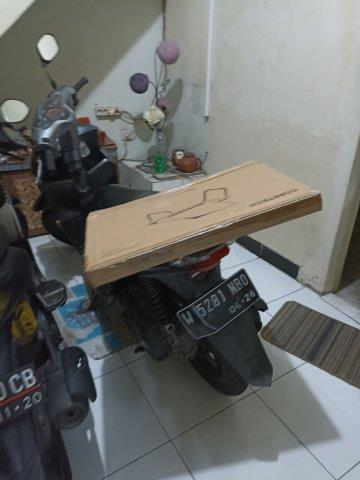kardus: (87, 161, 322, 284)
